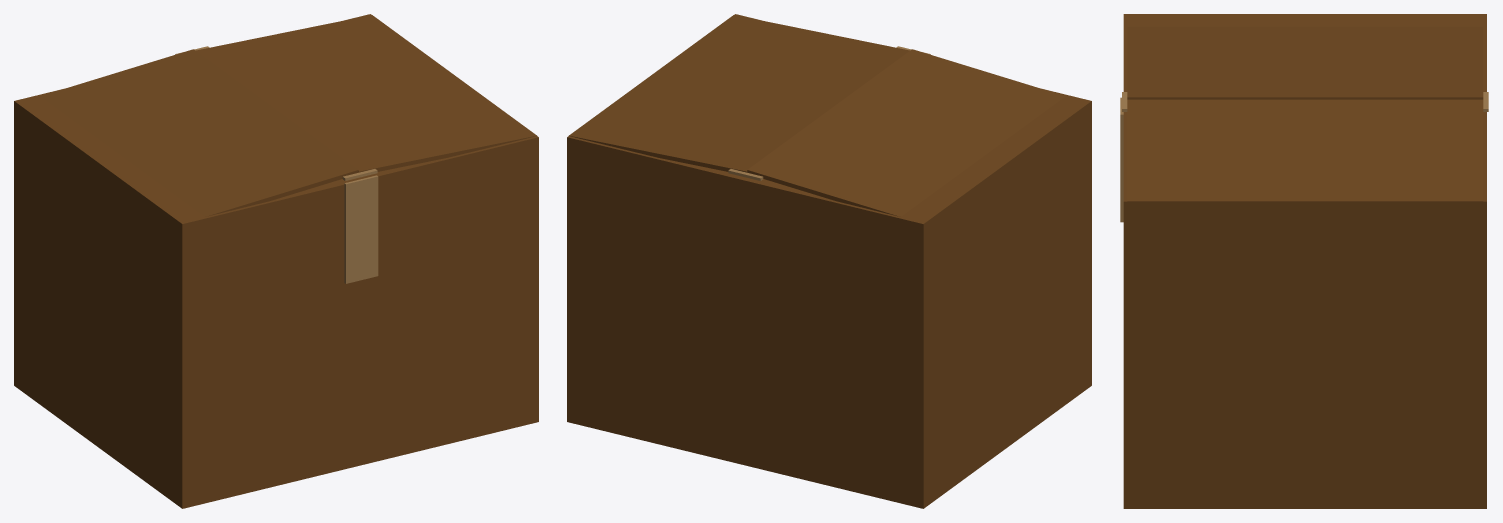
Rendered from CARDBOARD_BOX.glb.
3 views of the same model, side by side, from view 1: azimuth 30°, elevation 25°; view 2: azimuth 150°, elevation 25°; view 3: azimuth 270°, elevation 25° (orthographic). The views are drawn at different scales.
Parts seen in each view (by area): view 1: cardboard_0, glossyPlastic_1; view 2: cardboard_0; view 3: cardboard_0, glossyPlastic_1.
Part boxes in pixels (box(x1,y1,x2,y2)): cardboard_0: box(14, 14, 538, 508); glossyPlastic_1: box(175, 46, 378, 283); cardboard_0: box(567, 14, 1091, 508); cardboard_0: box(1123, 14, 1486, 508); glossyPlastic_1: box(1120, 92, 1488, 222).
Bounding box in the file's own units: 0.55 × 0.4342 × 0.456.
